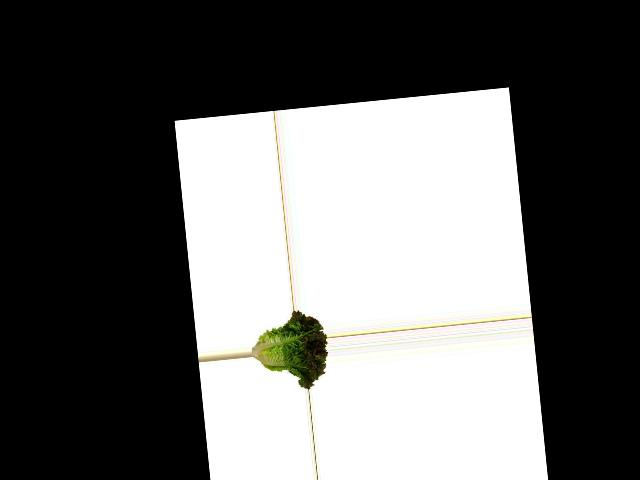lettuce: (247, 308, 330, 394)
